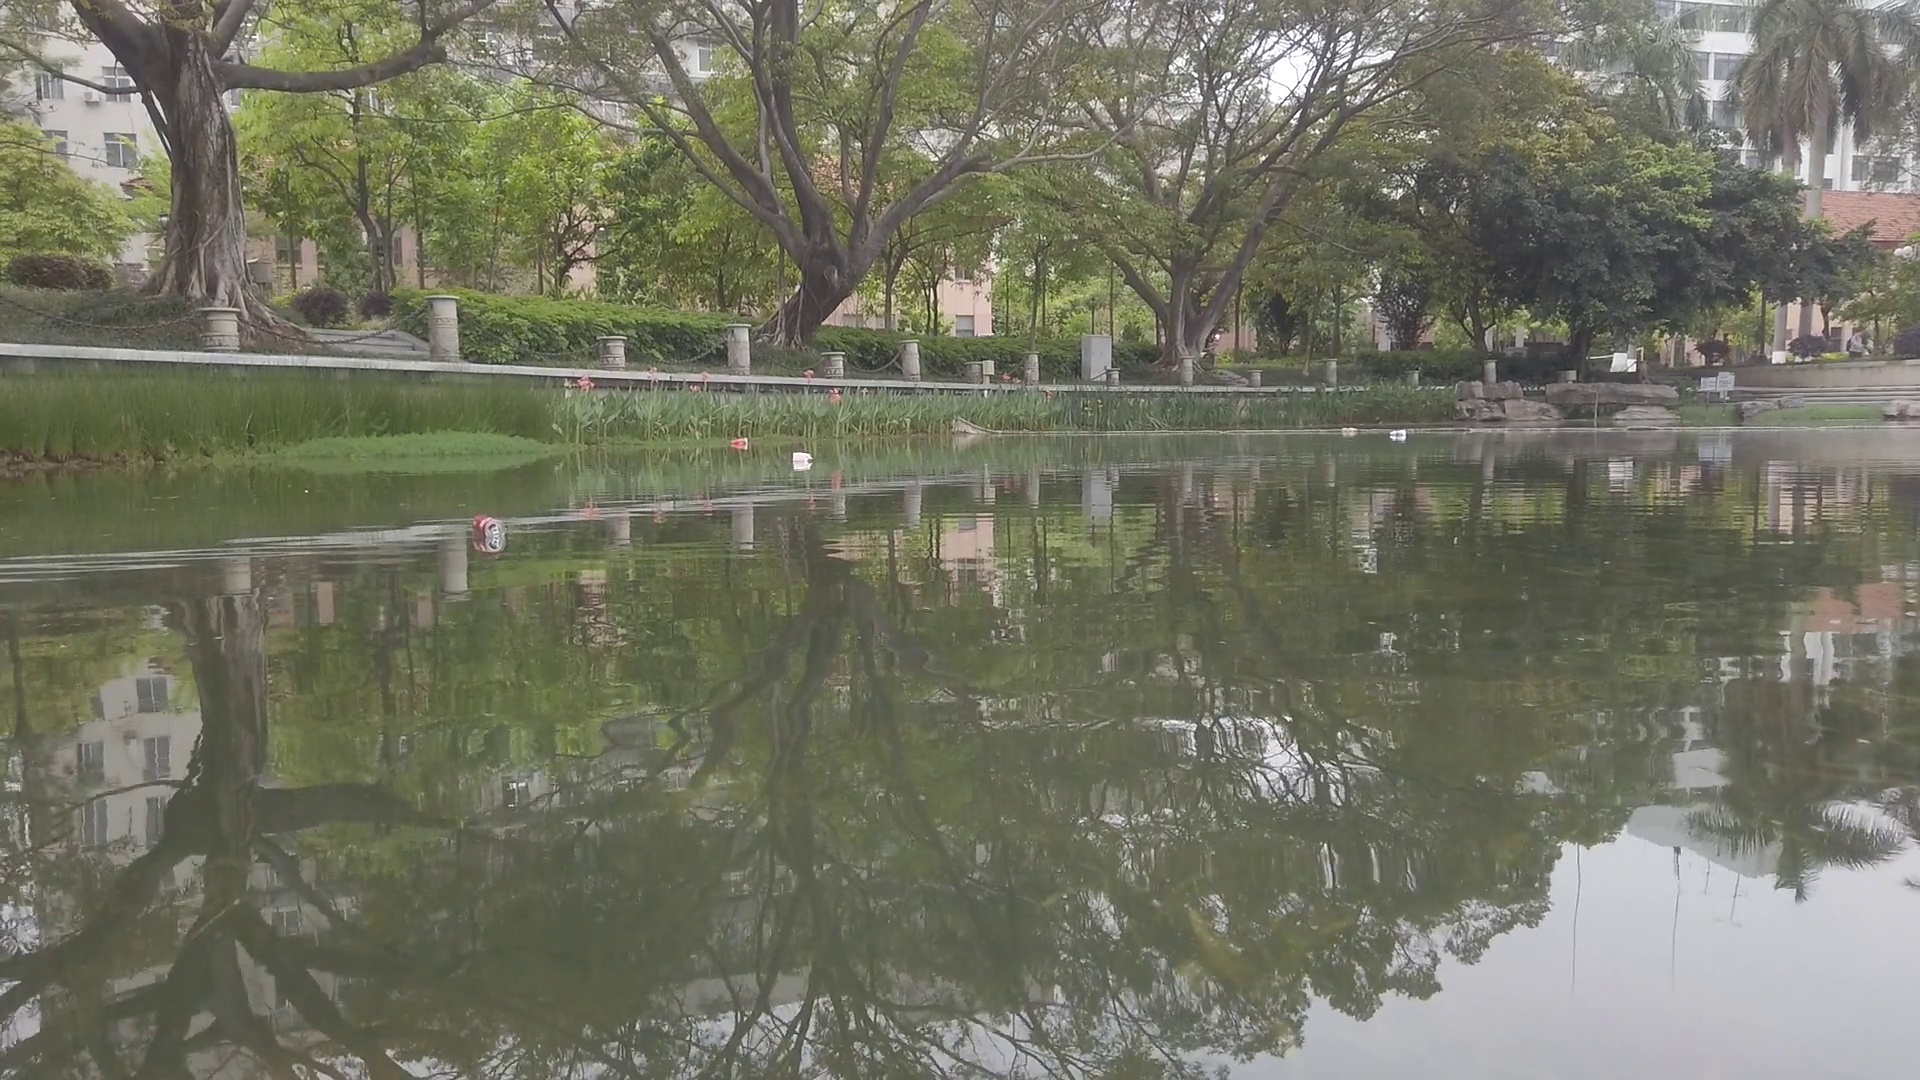bottle: (471, 513, 505, 538), (731, 436, 748, 447), (1389, 429, 1406, 436), (1341, 427, 1358, 433)
carton: (793, 448, 811, 465)
